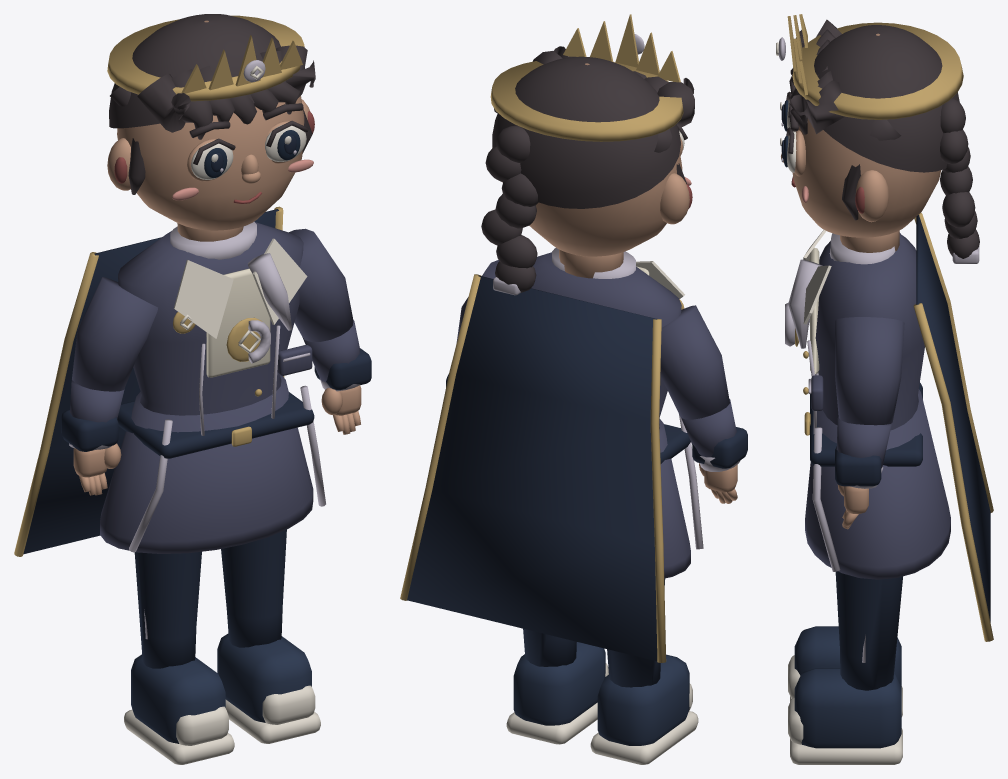
File: npc_graveyard_boss.glb
3 renders of one model, left to right at view 1: azimuth 30°, elevation 25°; view 2: azimuth 150°, elevation 25°; view 3: azimuth 270°, elevation 25°, orthographic. The views are drawn at different scales.
Parts seen in each view (by area): view 1: figure.079; view 2: figure.079; view 3: figure.079.
Boxes of the visible parts, <box> form: figure.079: <box>14,14,371,764</box>; figure.079: <box>400,14,747,764</box>; figure.079: <box>776,14,993,764</box>.
Size of the model in its own units: 0.7882 by 1.84 by 0.5069.
